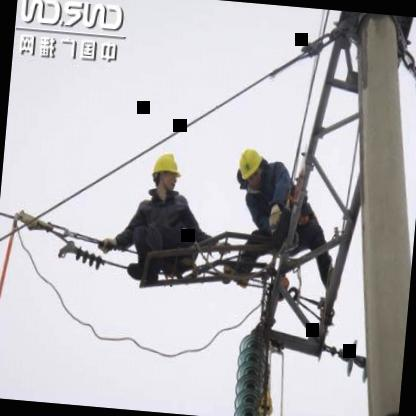helmet: (148, 150, 184, 200), (233, 142, 266, 193)
